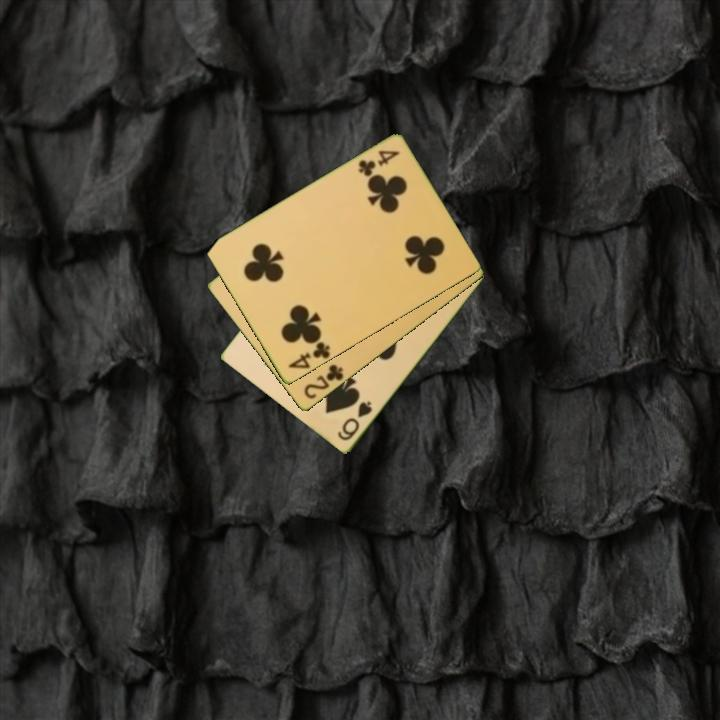2c: (300, 361, 347, 402)
4c: (284, 338, 333, 372), (354, 147, 402, 180)
6s: (334, 398, 375, 444)
